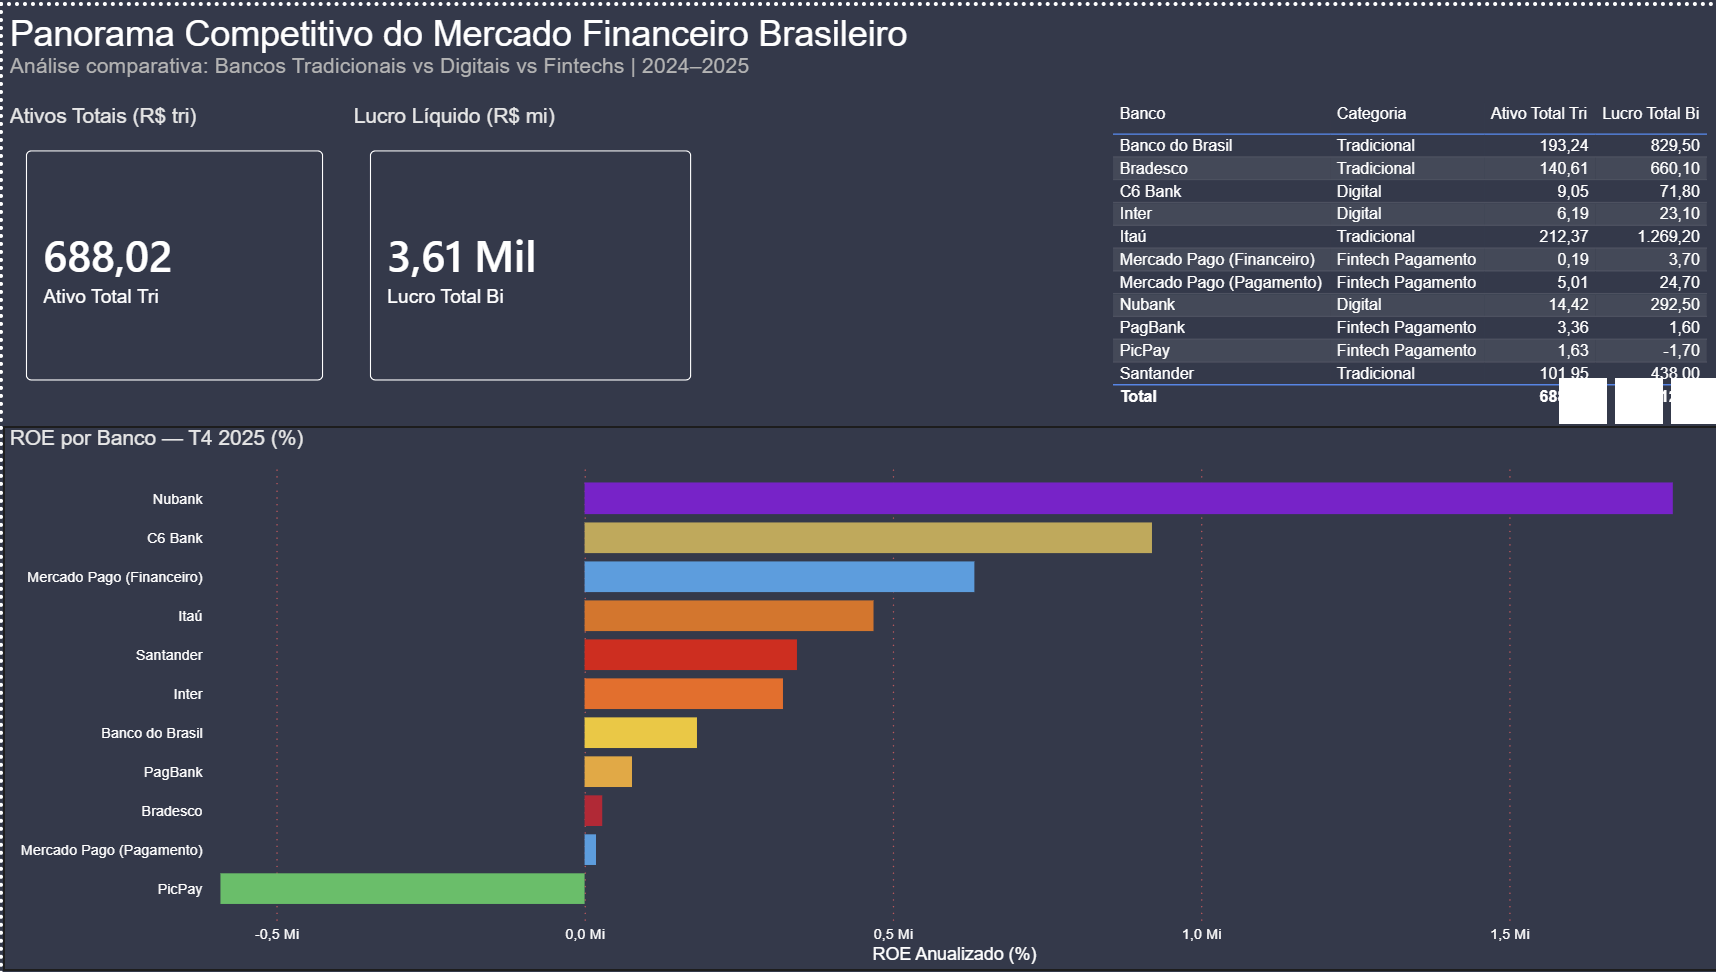

The dashboard page shown, as its layout file describes it:
{"tool":"powerbi","page":{"name":"Visão geral ","canvas":[1280,720],"ordinal":0},"visuals":[{"type":"cardVisual","title":"Lucro Líquido (R$ mi)","fields":{"Data":["base_consolidada.Lucro Total Bi"]},"box":[256.7,73.1,274.6,223.9],"z":0},{"type":"cardVisual","title":"Ativos Totais (R$ tri)","fields":{"Data":["base_consolidada.Ativo Total Tri"]},"box":[0,73.1,256.7,223.9],"z":1000},{"type":"tableEx","fields":{"Values":["base_consolidada.Banco","base_consolidada.Categoria","base_consolidada.Ativo Total Tri","base_consolidada.Lucro Total Bi"]},"box":[822.4,67.2,458.2,237.3],"z":2000},{"type":"textbox","box":[0,0,697,73.1],"z":3000},{"type":"clusteredBarChart","title":"ROE por Banco — T4 2025 (%)","fields":{"Category":["base_consolidada.Banco"],"Y":["Sum(base_consolidada.ROE Percentual)"]},"box":[0,313.4,1282.1,406],"z":4000}]}

Visuals, with their boxes in screenshot pixels (x1, y1, x2, y2), scaled from the page's 1280x720 canvas onto the 1716x972 screenshot:
"Lucro Líquido (R$ mi)" cardVisual: pyautogui.locateOnScreen(344, 99, 712, 401)
"Ativos Totais (R$ tri)" cardVisual: pyautogui.locateOnScreen(0, 99, 344, 401)
tableEx - base_consolidada.Banco x base_consolidada.Categoria: pyautogui.locateOnScreen(1103, 91, 1715, 411)
textbox: pyautogui.locateOnScreen(0, 0, 934, 99)
"ROE por Banco — T4 2025 (%)" clusteredBarChart: pyautogui.locateOnScreen(0, 423, 1715, 971)
